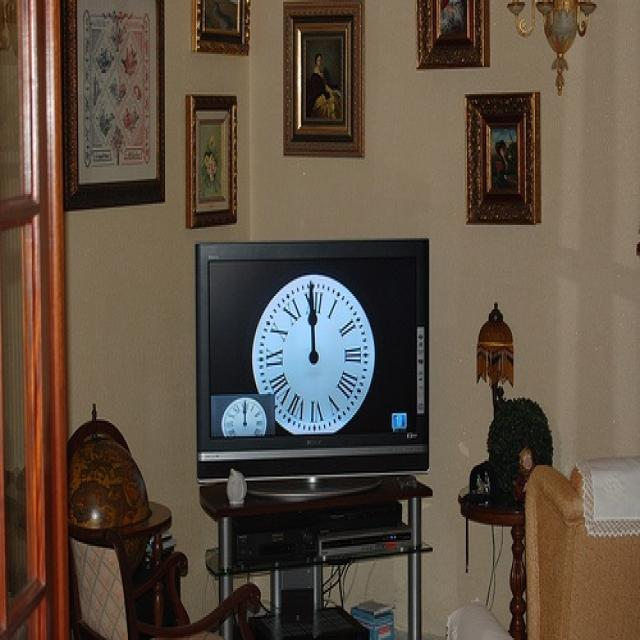chair: (60, 510, 261, 637)
sofa: (439, 451, 640, 639)
tvmonitor: (192, 230, 434, 507)
